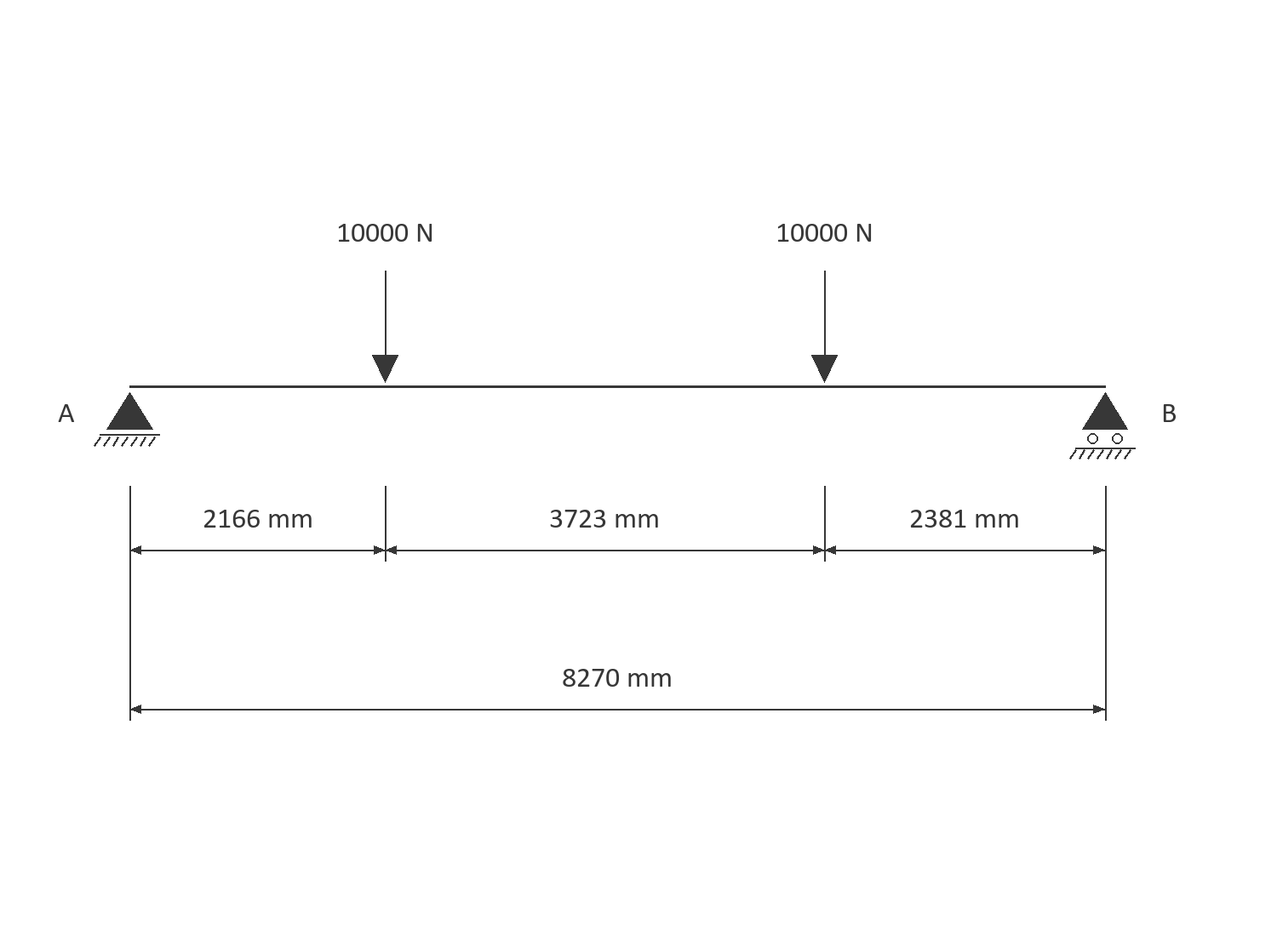pin_support: (94, 392, 160, 447)
point_load: (811, 271, 838, 383), (372, 271, 398, 383)
roller_support: (1069, 392, 1136, 459)
